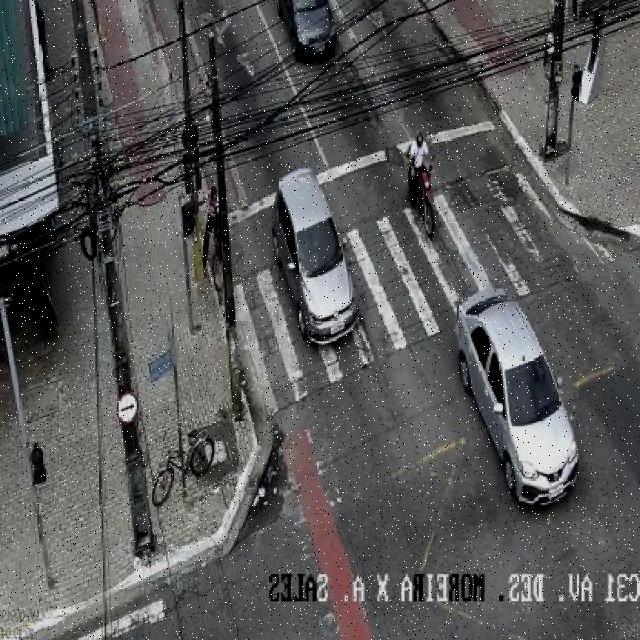Car: (457, 285, 580, 506), (270, 164, 360, 343), (278, 0, 339, 62)
Cycle: (152, 428, 217, 508), (409, 164, 438, 238)
